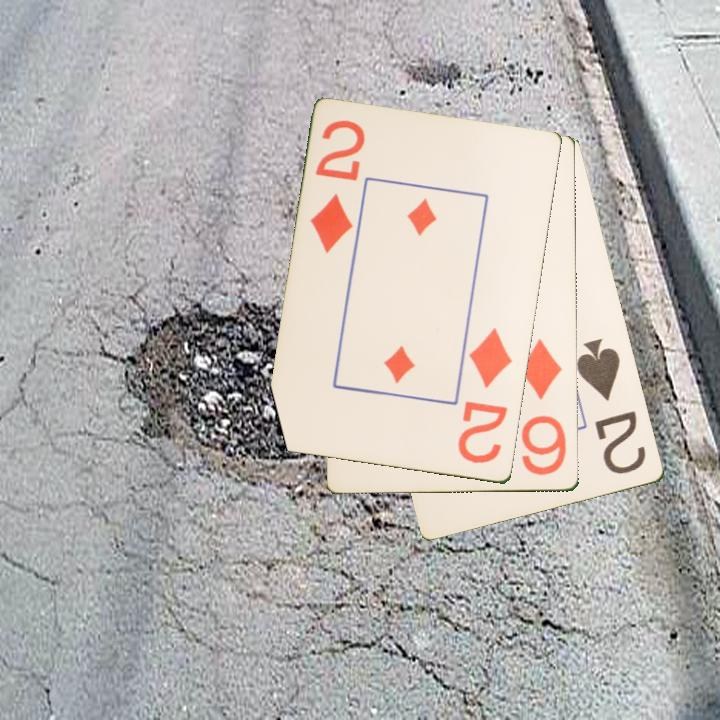2d: (307, 116, 369, 257), (454, 324, 515, 467)
2s: (573, 335, 649, 478)
6d: (515, 335, 570, 478)
